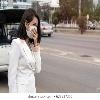Wearing Mask: (12, 0, 53, 44)
